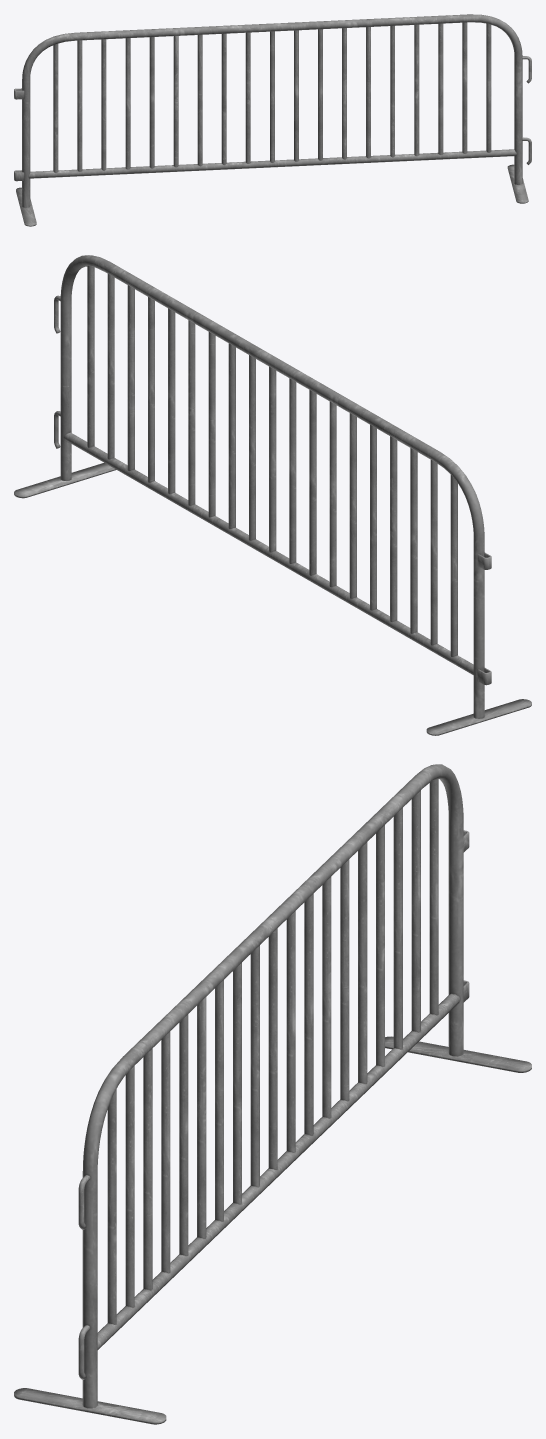
File: street_metal_barrier2.fbx
3 views of the same model, one above another, from view 1: azimuth 30°, elevation 25°; view 2: azimuth 150°, elevation 25°; view 3: azimuth 270°, elevation 25° (orthographic). The views are drawn at different scales.
Parts seen in each view (by area): view 1: street_metal_barrier2; view 2: street_metal_barrier2; view 3: street_metal_barrier2.
Part boxes in pixels (x1,y1,x2,y2): street_metal_barrier2: (14, 14, 531, 226); street_metal_barrier2: (14, 255, 531, 735); street_metal_barrier2: (14, 764, 531, 1424).
Size of the model in its own units: 6.11 by 2.34 by 3.47.
1 material, 1 textured.
